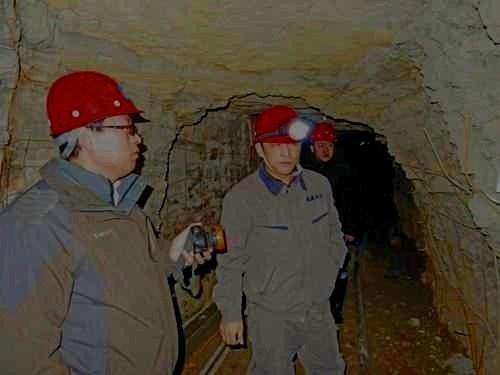helmet: (45, 67, 146, 173), (252, 101, 310, 174), (309, 121, 337, 161)
